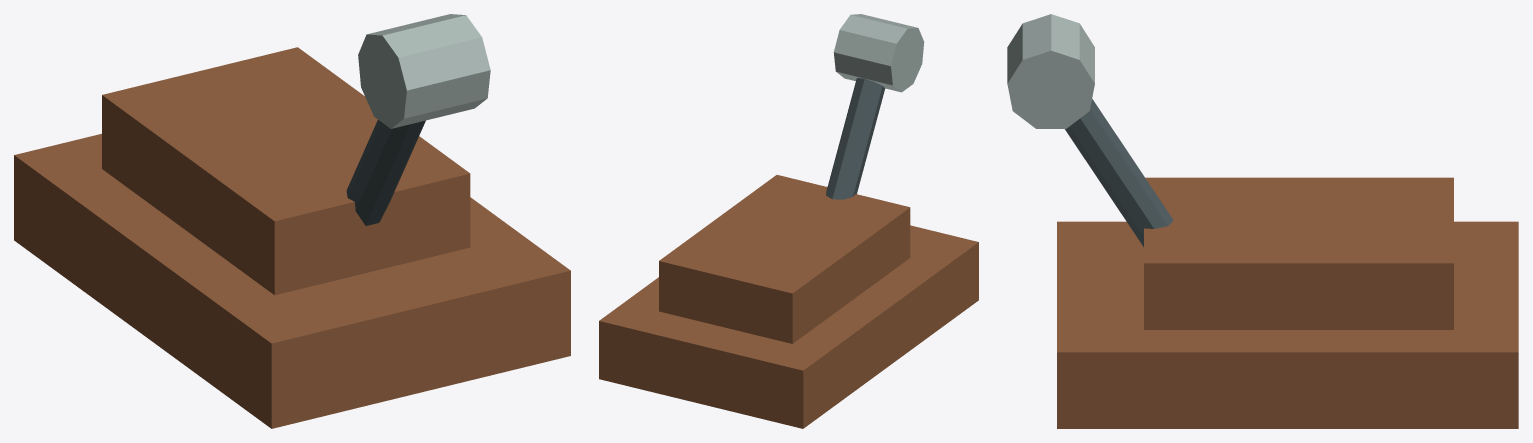
The model's file is 065_coconut_scraper.glb.
The picture shows the model from 3 angles, left to right: view 1: azimuth 30°, elevation 25°; view 2: azimuth 150°, elevation 25°; view 3: azimuth 270°, elevation 25°; orthographic projection. The views are drawn at different scales.
Visible parts, largest first — view 1: Coconut scraper; view 2: Coconut scraper; view 3: Coconut scraper.
Part boxes in pixels (x1=…): Coconut scraper: x1=14, y1=14, x2=570, y2=428; Coconut scraper: x1=599, y1=14, x2=978, y2=428; Coconut scraper: x1=1007, y1=14, x2=1518, y2=428.
Size of the model in its own units: 0.55 by 0.649 by 0.9078.
